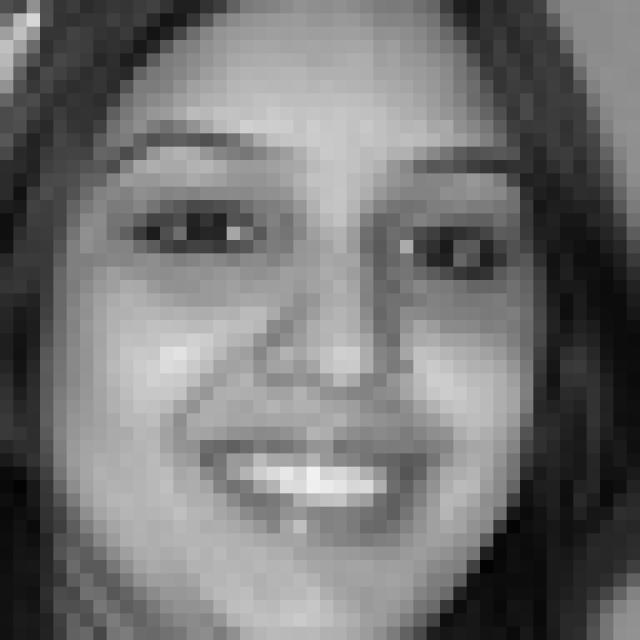happy: (88, 119, 521, 556)
